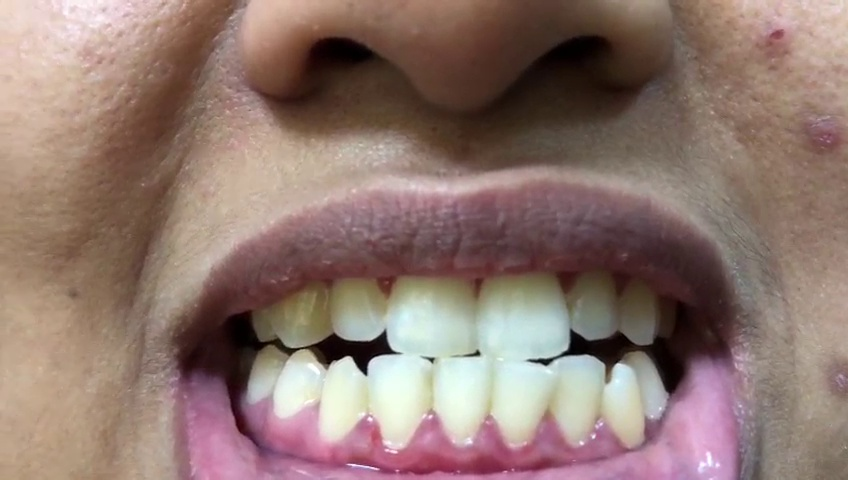1st Premolar: (271, 352, 323, 422), (627, 351, 667, 418)
2nd Premolar: (247, 341, 282, 405)
Canine: (318, 357, 367, 449), (274, 273, 330, 351), (602, 362, 644, 448), (616, 268, 658, 344)
Central Incisor: (480, 265, 571, 358), (386, 269, 478, 355), (490, 359, 554, 446), (434, 357, 489, 445)
Lateral Incisor: (367, 355, 431, 454), (552, 354, 604, 444), (329, 262, 387, 342), (569, 265, 619, 342)
